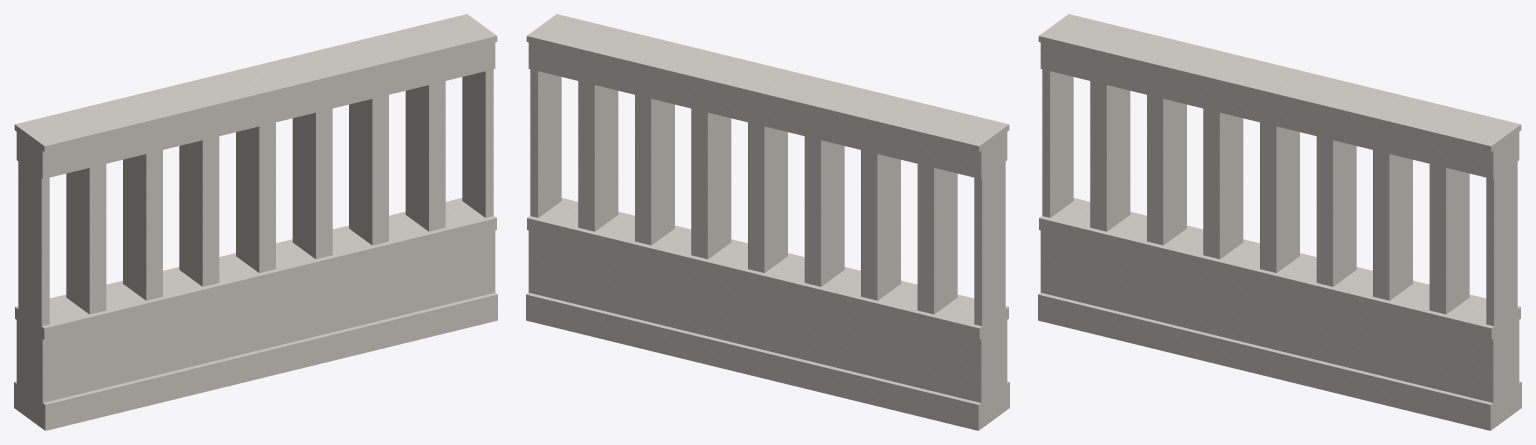
The model's file is OAR_Wall_Panel_Open_2m.fbx.
3 renders of one model, left to right at view 1: azimuth 30°, elevation 25°; view 2: azimuth 150°, elevation 25°; view 3: azimuth 330°, elevation 25°, orthographic.
Parts seen in each view (by area): view 1: Body; view 2: Body; view 3: Body.
Boxes of the visible parts, x1,y1,x2,y2 form: Body: [14, 14, 497, 430]; Body: [526, 14, 1009, 430]; Body: [1038, 14, 1521, 430].
Size of the model in its own units: 2 by 1.2 by 0.24.
